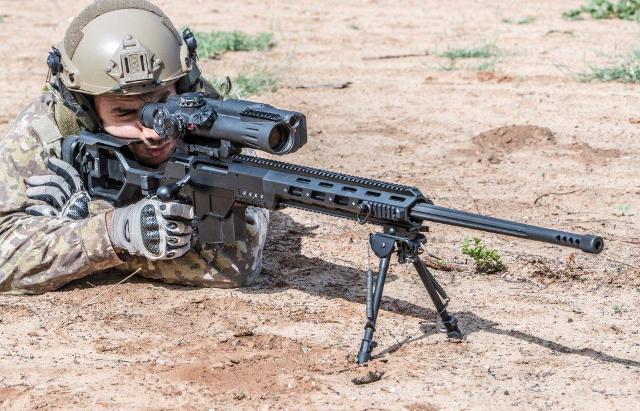Arma Real: (58, 92, 603, 363)
